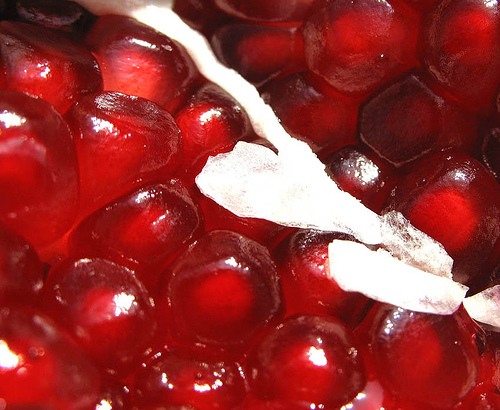pomogranate: (0, 1, 498, 408)
